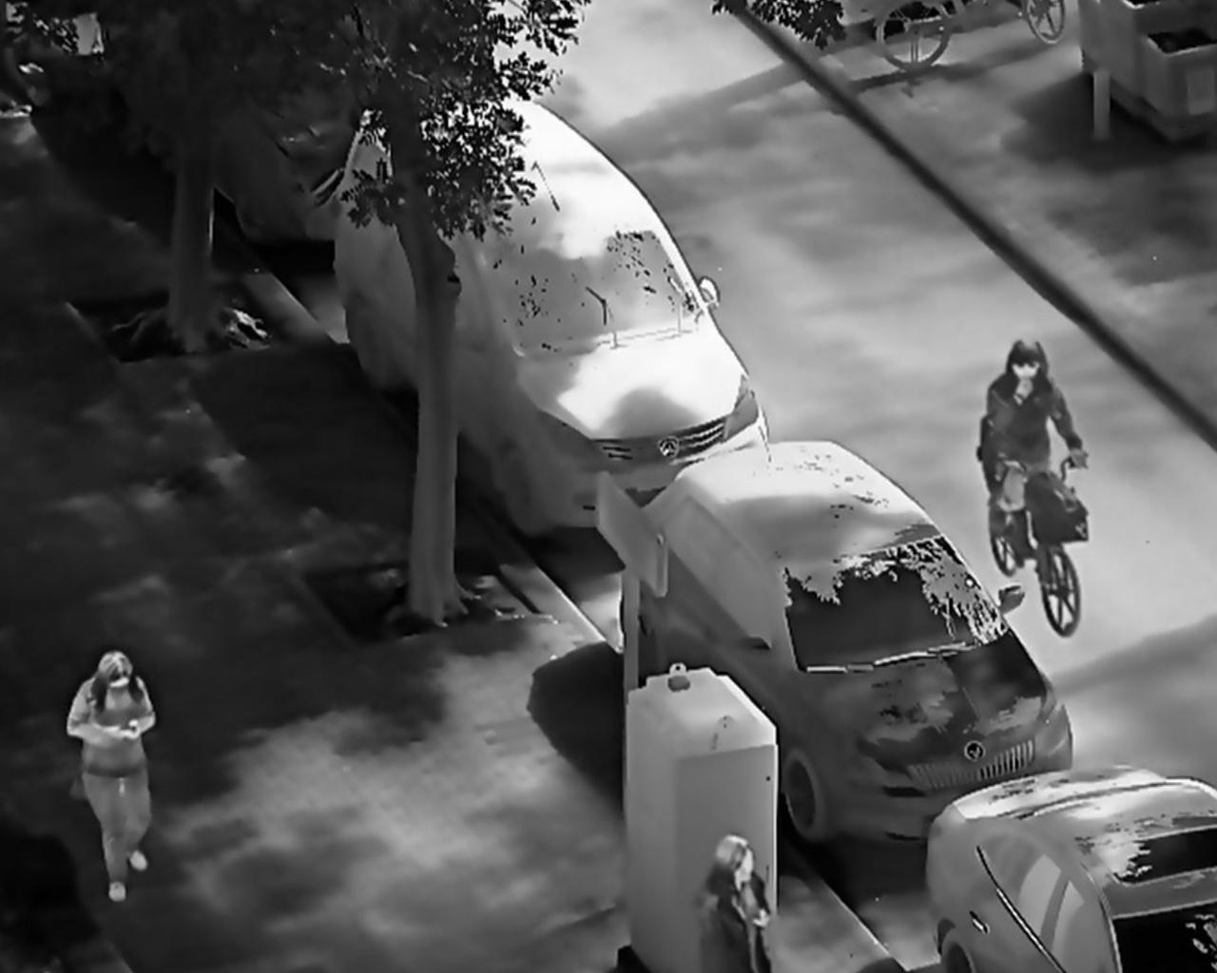person: (63, 647, 163, 905), (984, 334, 1090, 570), (690, 831, 779, 973)
